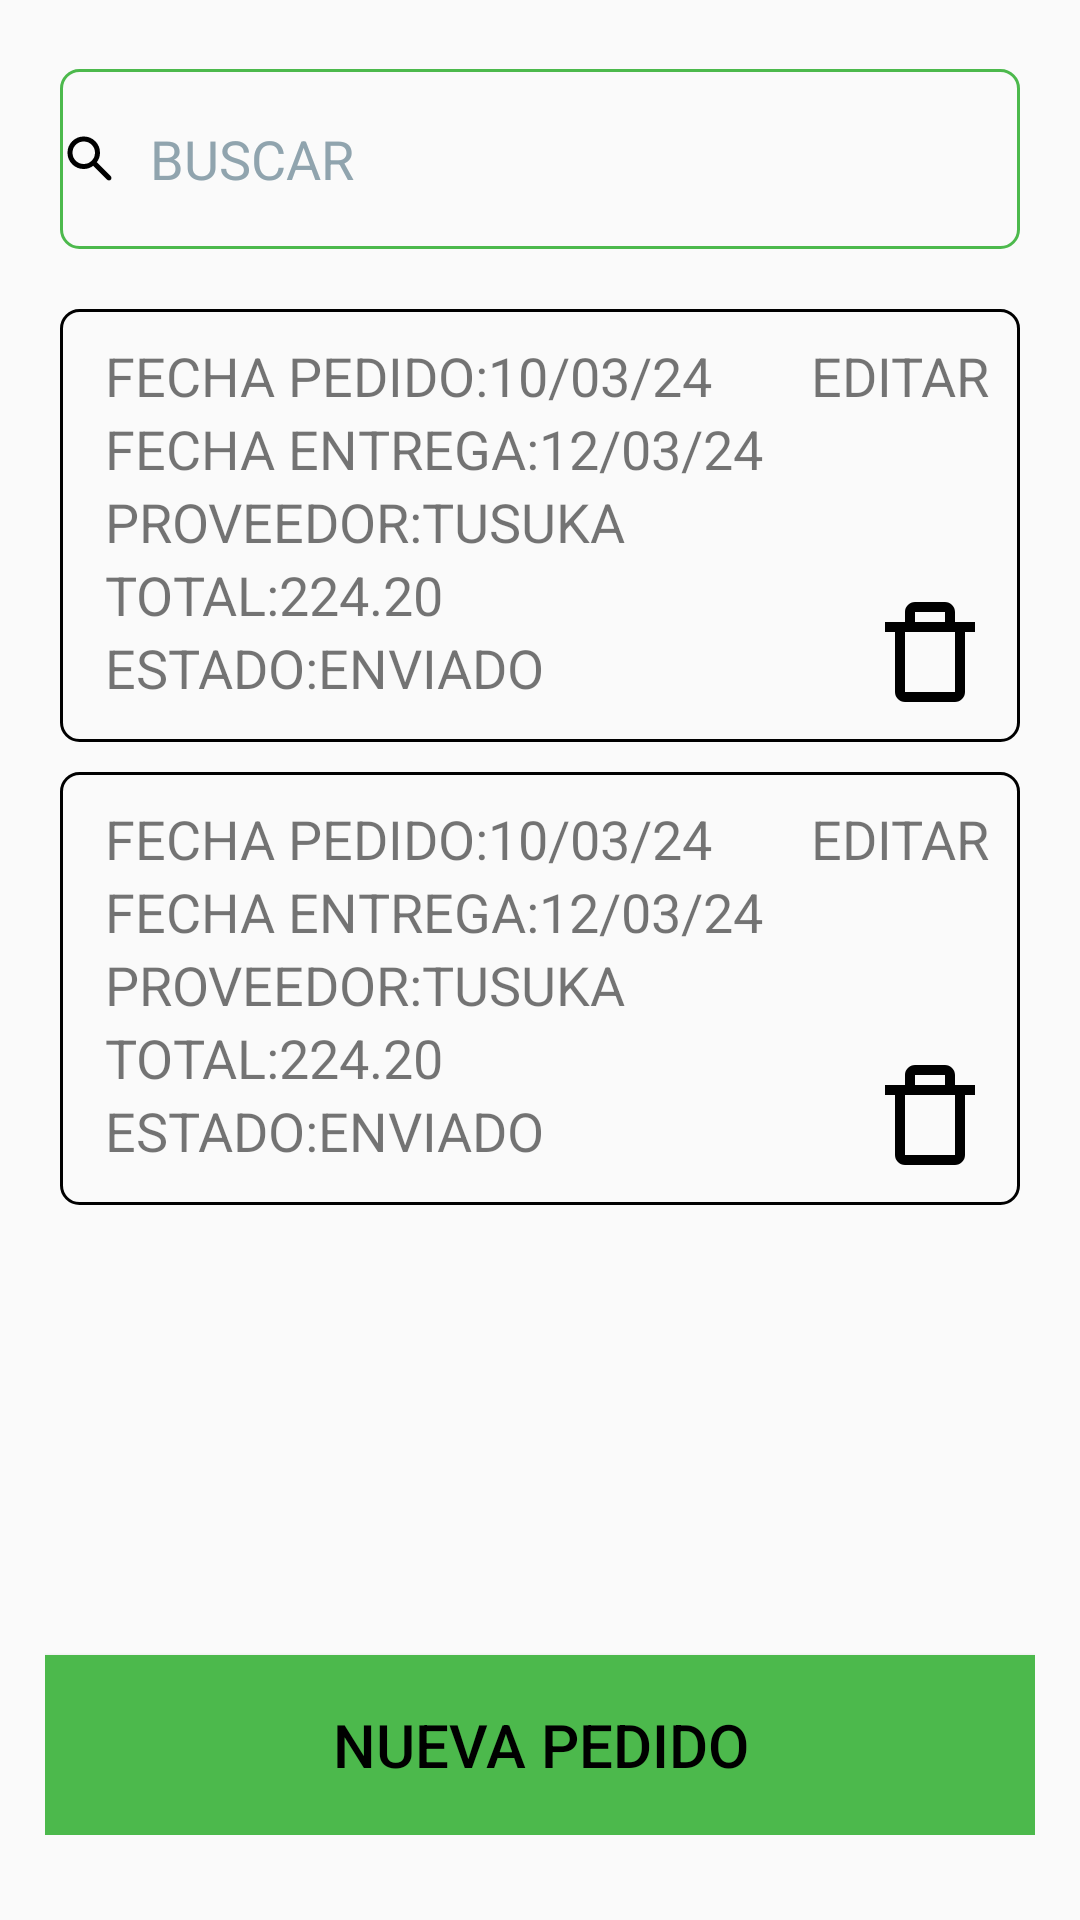

Locate icon controls on the screen. Image size 1080x1920, boxes as bbox=[x1, y1, x2, y2].
basura: bbox=[885, 602, 975, 702], bbox=[885, 1065, 975, 1165]
